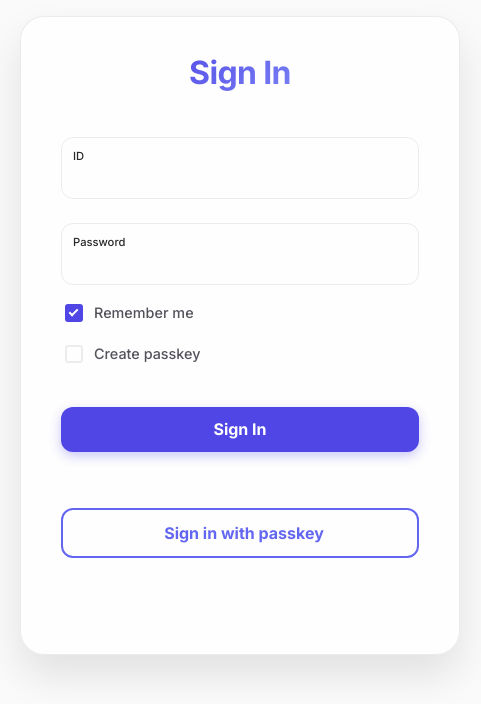
Scenario: Account View › handles login failure
Type "person@example.com" into the field named "ID" at (244,176), box [82,159,406,194]
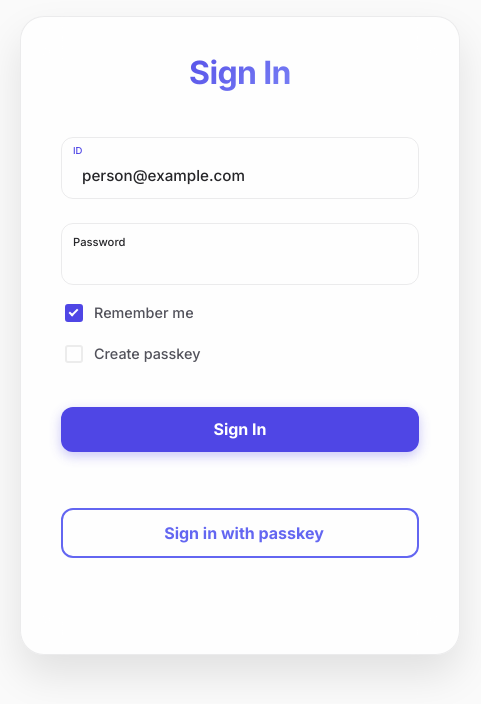
Type "password" into the password field named "Password" at (234,262), box [82,245,386,280]
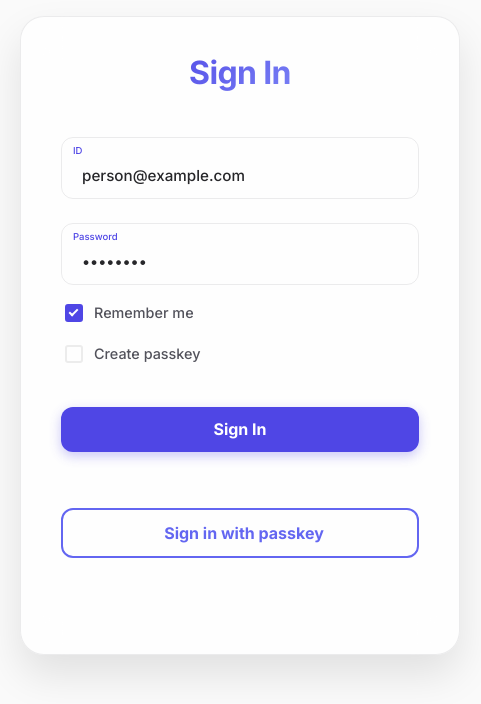
Click the button "Sign In" at (240,429), box [61,407,419,452]
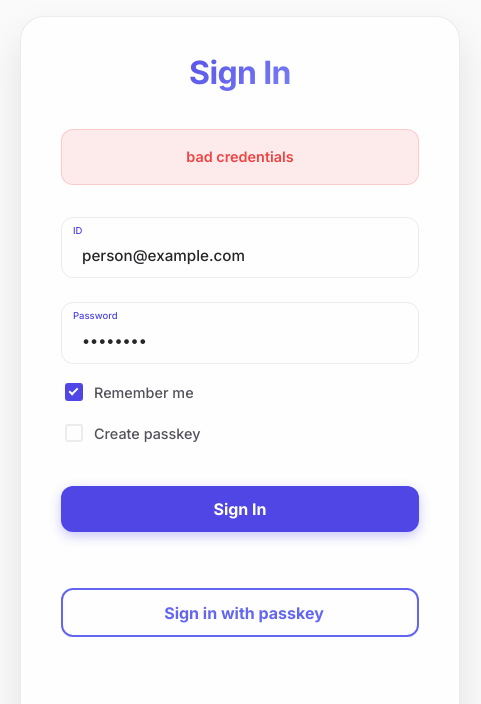
Expected: the text "bad credentials" is shown, [61,129,419,185]
